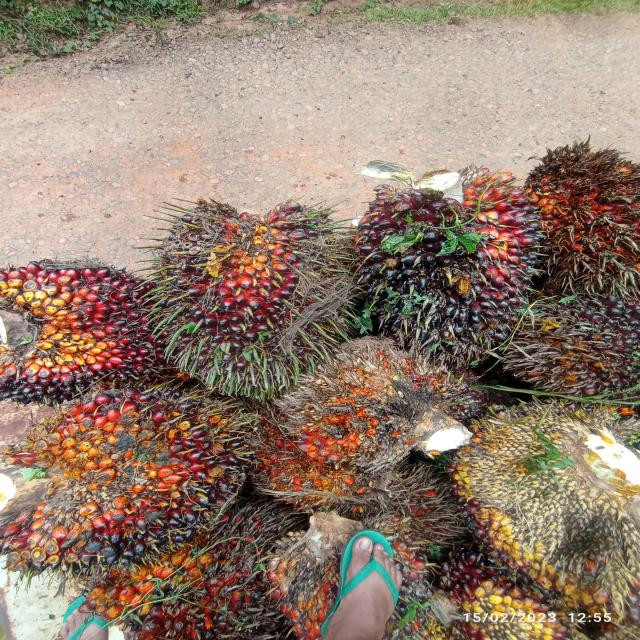fraksi 00: (340, 150, 555, 360), (495, 280, 640, 426)
fraksi 1: (0, 378, 285, 576), (141, 191, 353, 395), (0, 240, 167, 418)
fraksi 4: (264, 331, 497, 476), (524, 121, 639, 282)
